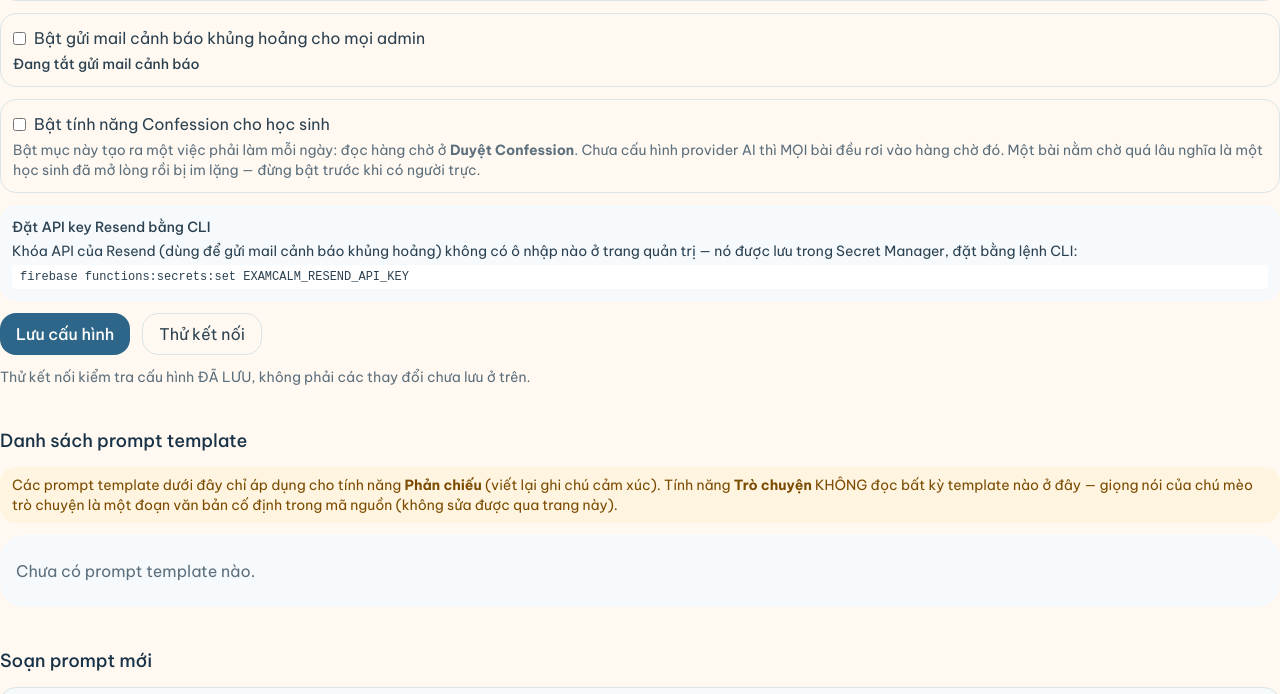
Scenario: AiConfigEditor — Thử kết nối (Decision E) › bấm 'Thử kết nối' khi thất bại -> hiện message đã sanitise, KHÔNG hiện raw response
(page scrolled)
Click the button "Thử kết nối" at (202, 334), box [142, 313, 262, 355]
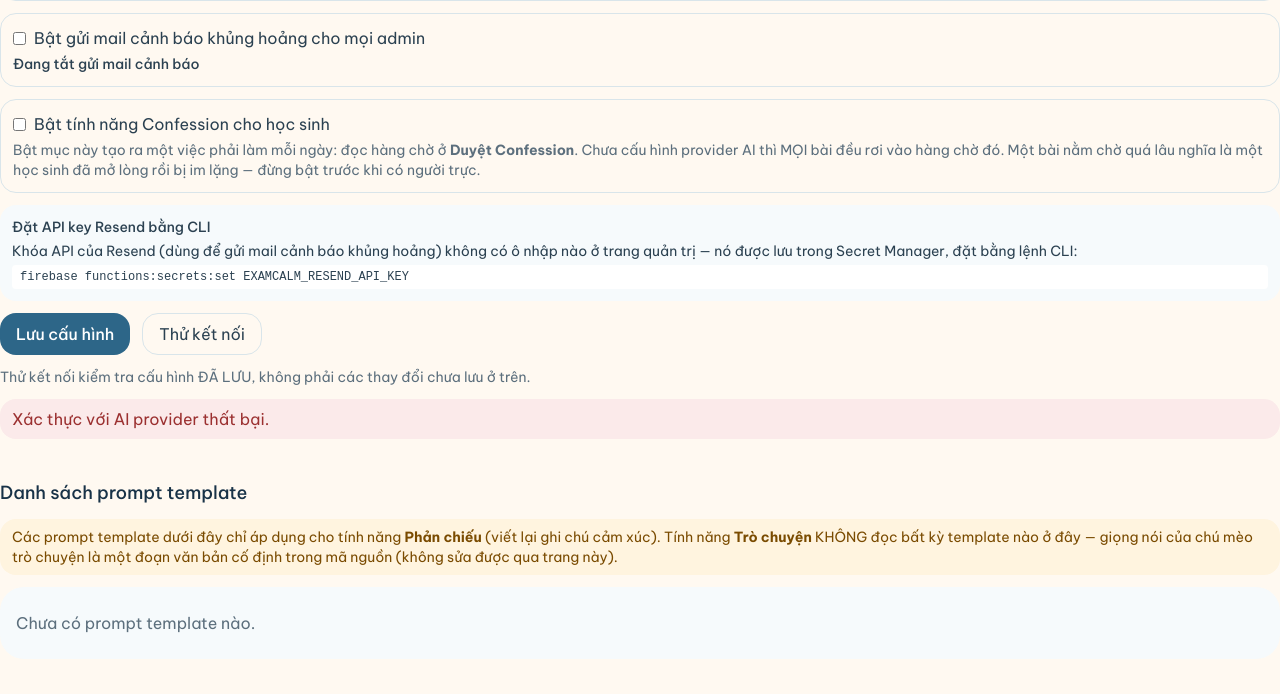
Expected: the message shows "Xác thực với AI provider thất bại", [12, 409, 269, 429]
